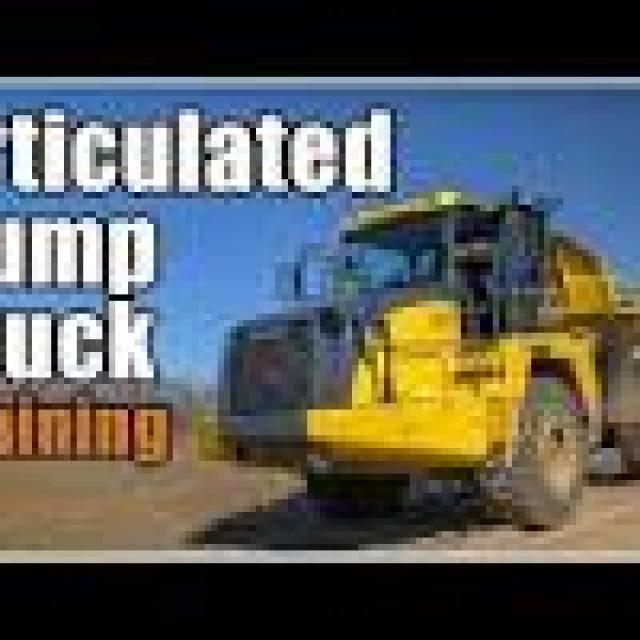dump_truck: (192, 160, 634, 557)
